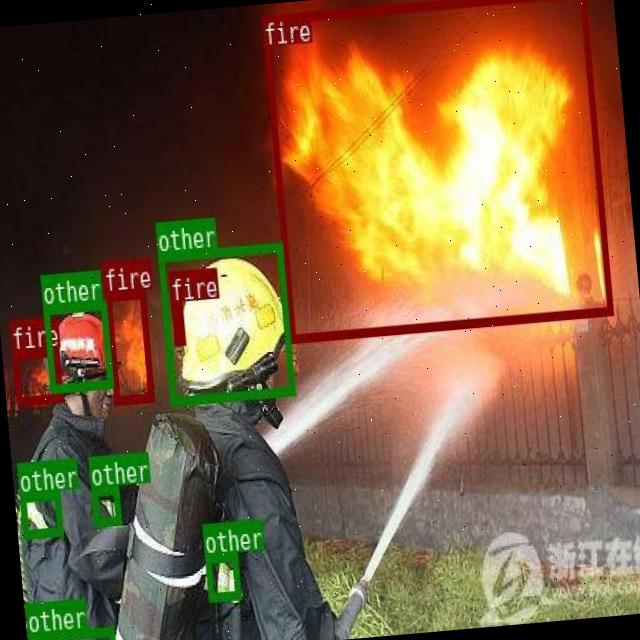fire: (260, 0, 611, 342), (104, 288, 154, 404), (11, 346, 62, 404), (170, 301, 184, 343)
